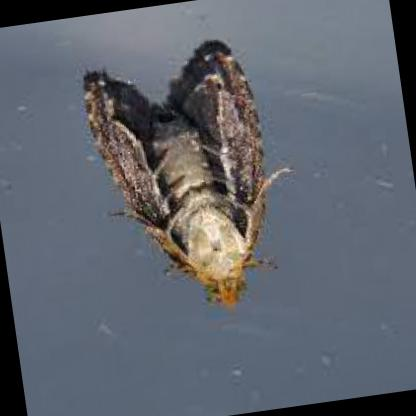Leaf Webber: (73, 37, 275, 310)
